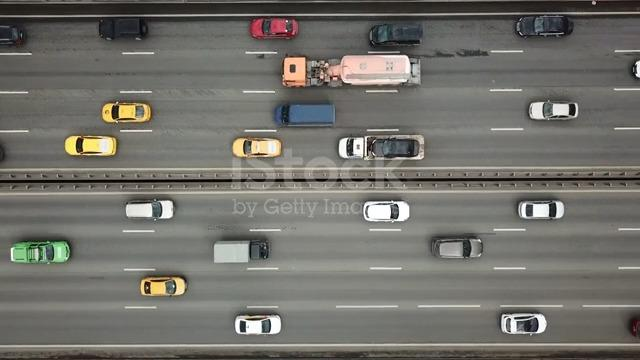Cars: (338, 135, 425, 161), (10, 240, 71, 265), (275, 103, 336, 128), (369, 23, 424, 48), (516, 15, 574, 38), (99, 17, 148, 41), (102, 101, 152, 124), (65, 135, 117, 157), (250, 17, 299, 40), (529, 100, 579, 122), (363, 200, 410, 223), (233, 137, 282, 159), (126, 199, 175, 221), (235, 314, 282, 336), (141, 276, 188, 297), (518, 200, 565, 221), (1, 23, 25, 47), (632, 60, 640, 80)
